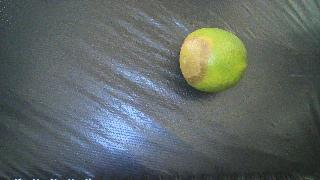DESECHO: (179, 28, 247, 93)
